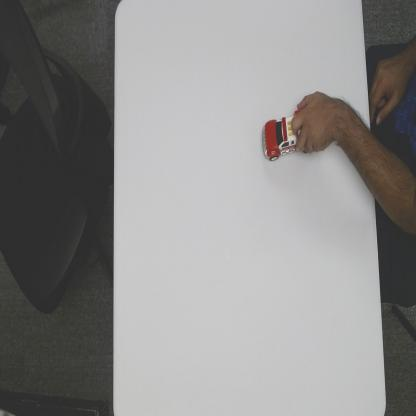Firetruck: (261, 110, 302, 162)
Hand: (292, 85, 354, 156)
